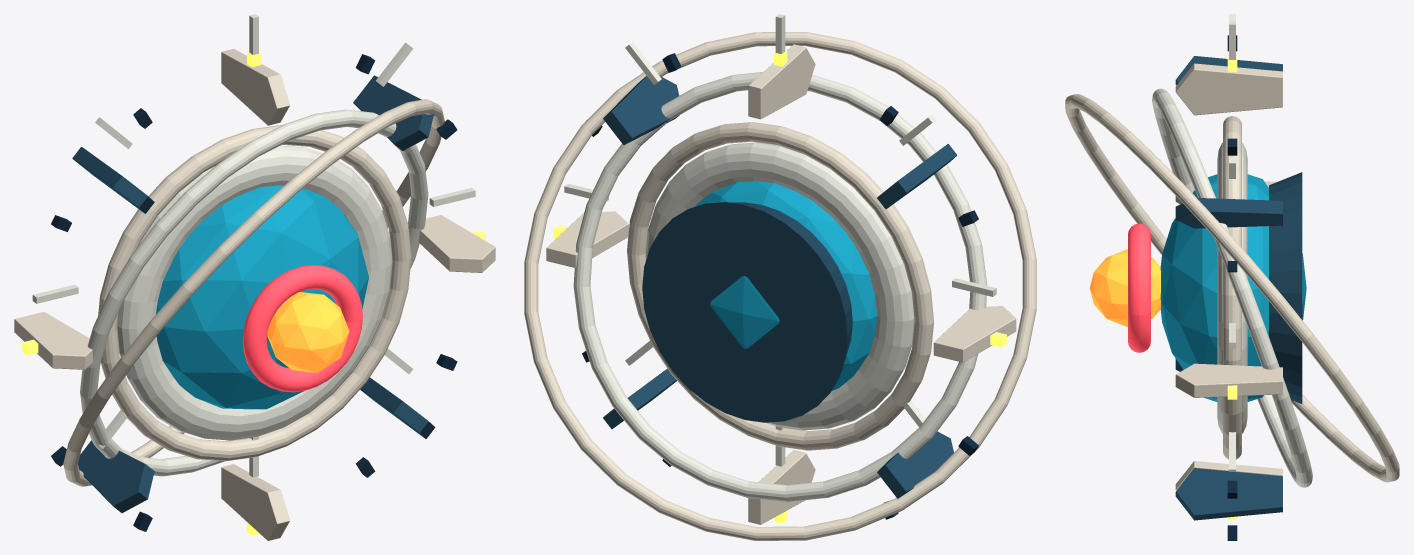
File: prism-warden-high.glb
3 renders of one model, left to right at view 1: azimuth 30°, elevation 25°; view 2: azimuth 150°, elevation 25°; view 3: azimuth 270°, elevation 25°, orthographic. The views are drawn at different scales.
Parts seen in each view (by area): view 1: hull_static, porcelain_static, motion-lens, accent_static, telegraph_socket, exposed_core, dark_static, reward_static; view 2: hull_static, accent_static, porcelain_static, motion-lens, dark_static, reward_static; view 3: hull_static, accent_static, porcelain_static, motion-lens, telegraph_socket, exposed_core, dark_static.
Part boxes in pixels (x1,y1,x2,y2): hull_static: [14, 48, 495, 540]; porcelain_static: [32, 14, 475, 477]; motion-lens: [156, 185, 368, 409]; accent_static: [72, 75, 435, 512]; telegraph_socket: [242, 265, 362, 392]; exposed_core: [267, 292, 349, 372]; dark_static: [51, 54, 457, 531]; reward_static: [22, 52, 485, 535]; hull_static: [524, 32, 1036, 540]; accent_static: [603, 76, 956, 498]; porcelain_static: [564, 14, 996, 501]; motion-lens: [695, 181, 877, 391]; dark_static: [582, 53, 978, 519]; reward_static: [554, 51, 1006, 523]; hull_static: [1065, 63, 1399, 490]; accent_static: [1175, 56, 1302, 520]; porcelain_static: [1152, 14, 1312, 487]; motion-lens: [1160, 174, 1306, 401]; telegraph_socket: [1128, 223, 1150, 352]; exposed_core: [1089, 249, 1160, 327]; dark_static: [1227, 35, 1237, 540].
Bounding box in the file's own units: 3050 × 3285 × 2015.
